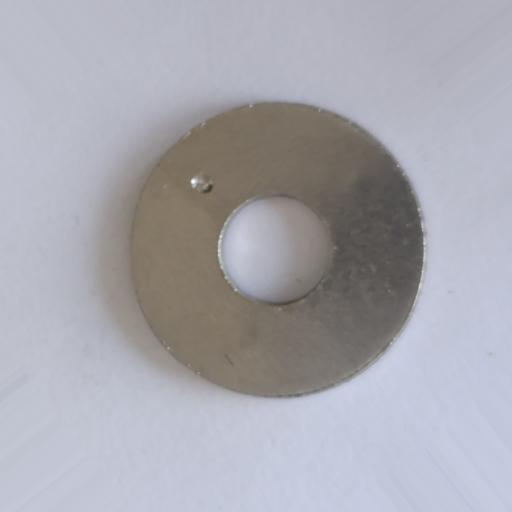circular_cavity: (190, 172, 214, 194)
